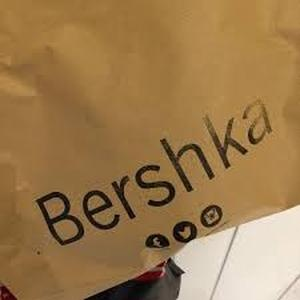bershka: (34, 100, 300, 180)
